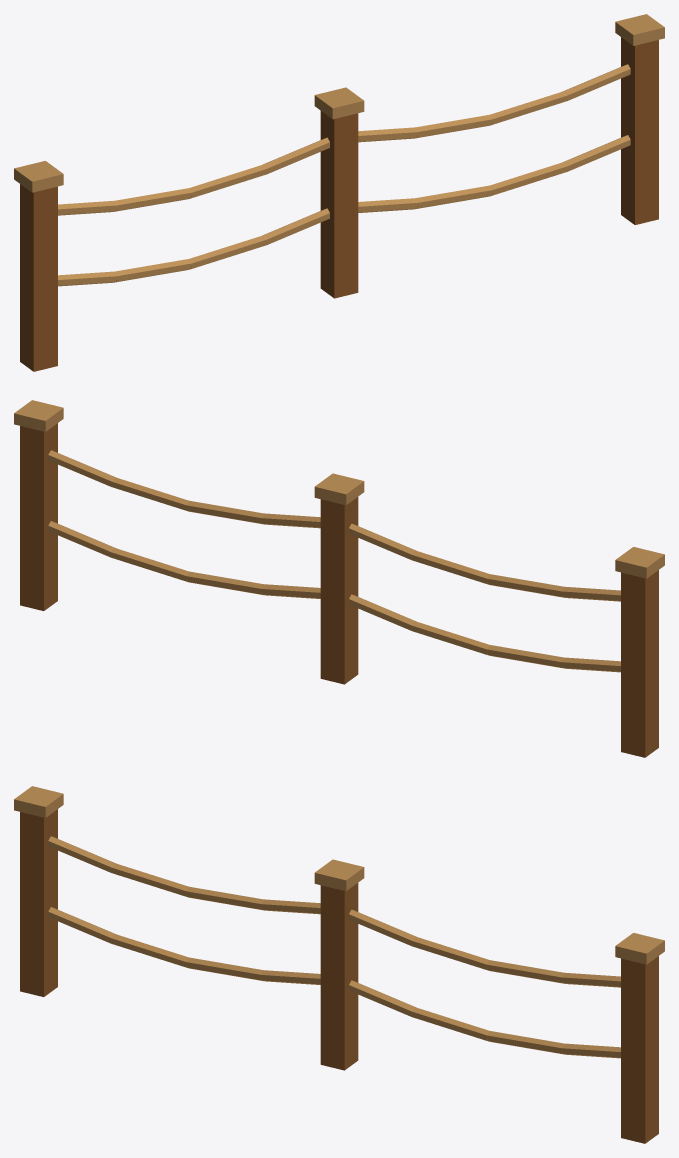
The model's file is rope_fence_4m.glb.
3 renders of one model, top to bottom at view 1: azimuth 30°, elevation 25°; view 2: azimuth 150°, elevation 25°; view 3: azimuth 330°, elevation 25°, orthographic.
Visible parts, largest first — view 1: rope_fence_4m_mobile; view 2: rope_fence_4m_mobile; view 3: rope_fence_4m_mobile.
Boxes of the visible parts, x1,y1,x2,y2 form: rope_fence_4m_mobile: (14,14,664,371); rope_fence_4m_mobile: (14,400,664,757); rope_fence_4m_mobile: (14,786,664,1143).
Bounding box in the file's own units: 4.21 × 1.23 × 0.21.
